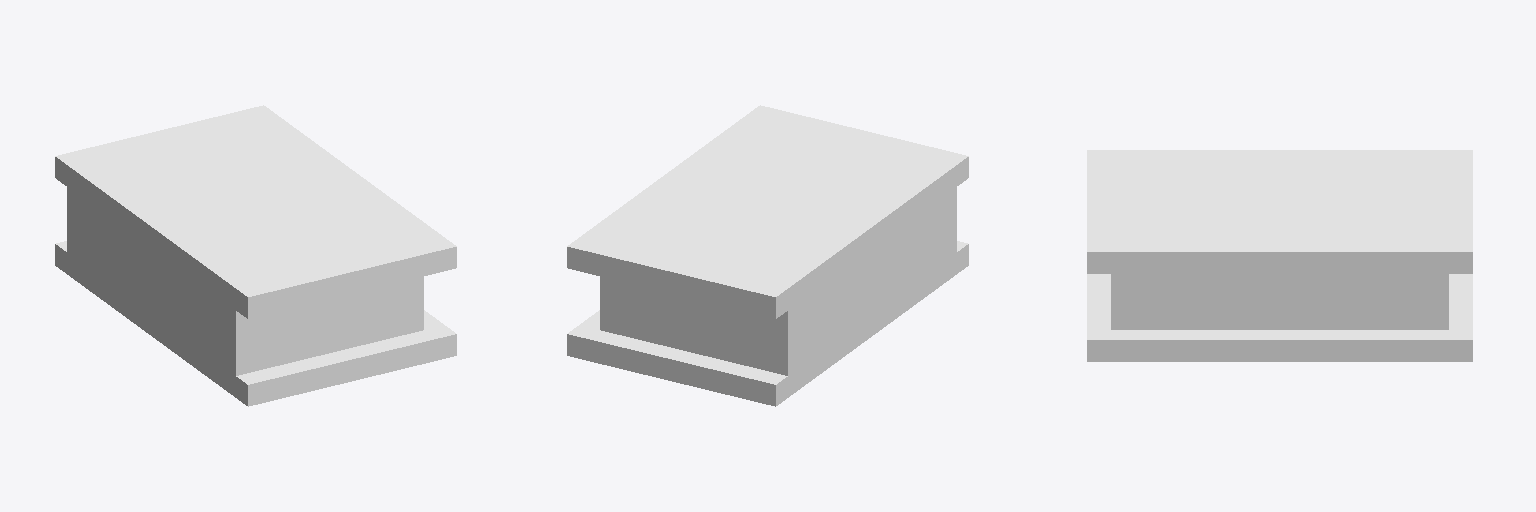
File: BookOfDwarfs.obj
3 renders of one model, left to right at view 1: azimuth 30°, elevation 25°; view 2: azimuth 150°, elevation 25°; view 3: azimuth 270°, elevation 25°, orthographic.
Visible parts, largest first — view 1: object 1; view 2: object 1; view 3: object 1.
Part boxes in pixels (x1,y1,x2,y2): object 1: (55, 105, 456, 406); object 1: (567, 105, 968, 406); object 1: (1087, 150, 1472, 361).
Bounding box in the file's own units: 1 × 0.5 × 1.6.